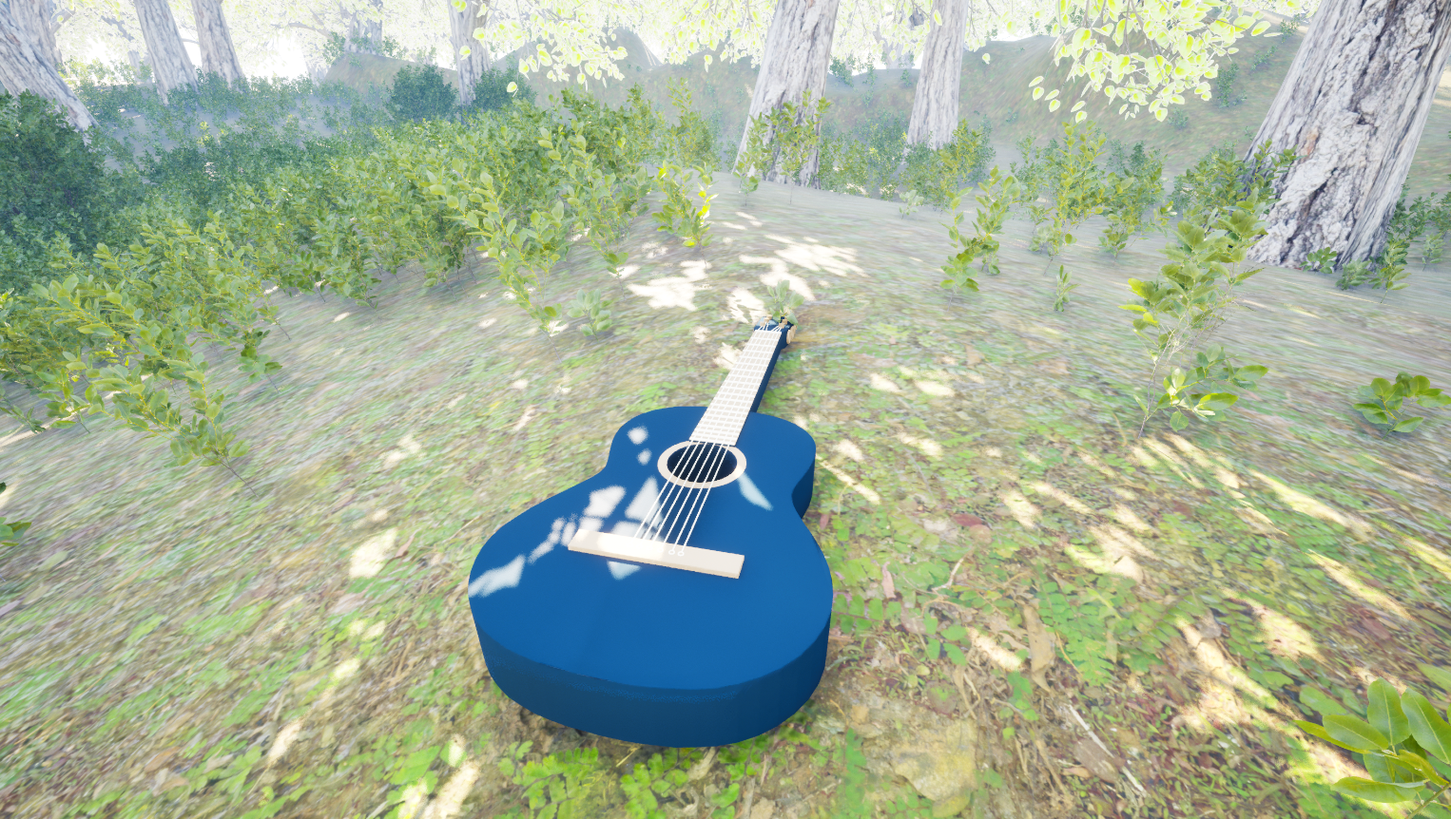Guitar: (401, 298, 865, 786)
